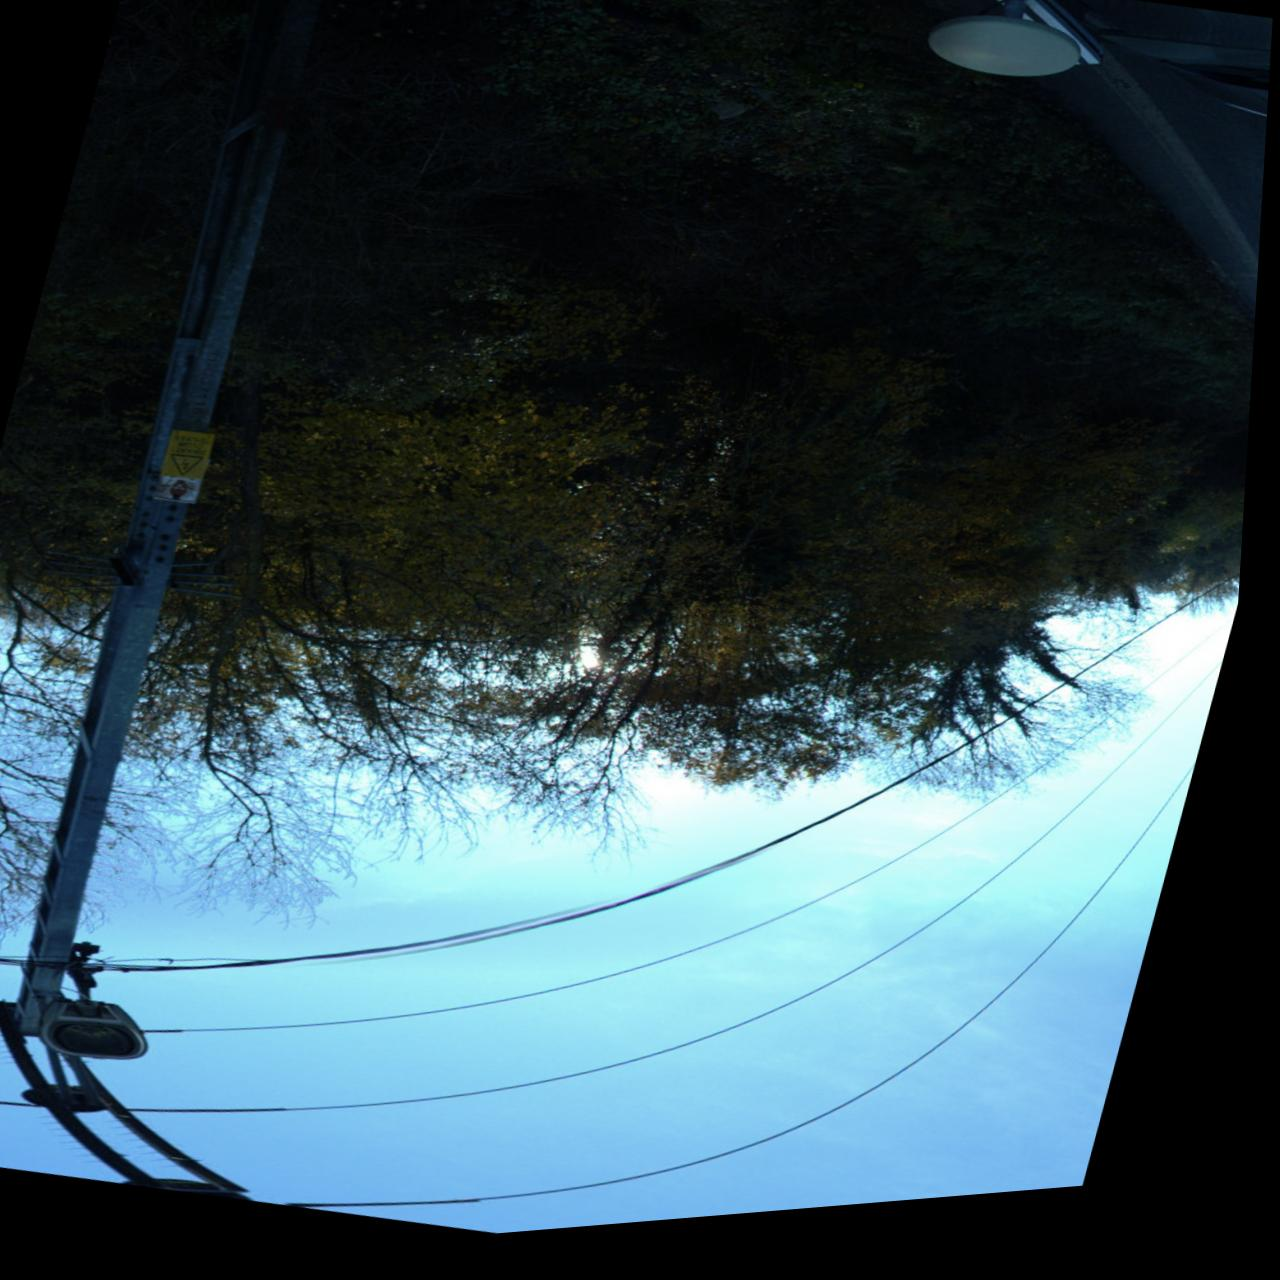Utility Pole Information Plate: (157, 420, 225, 506)
